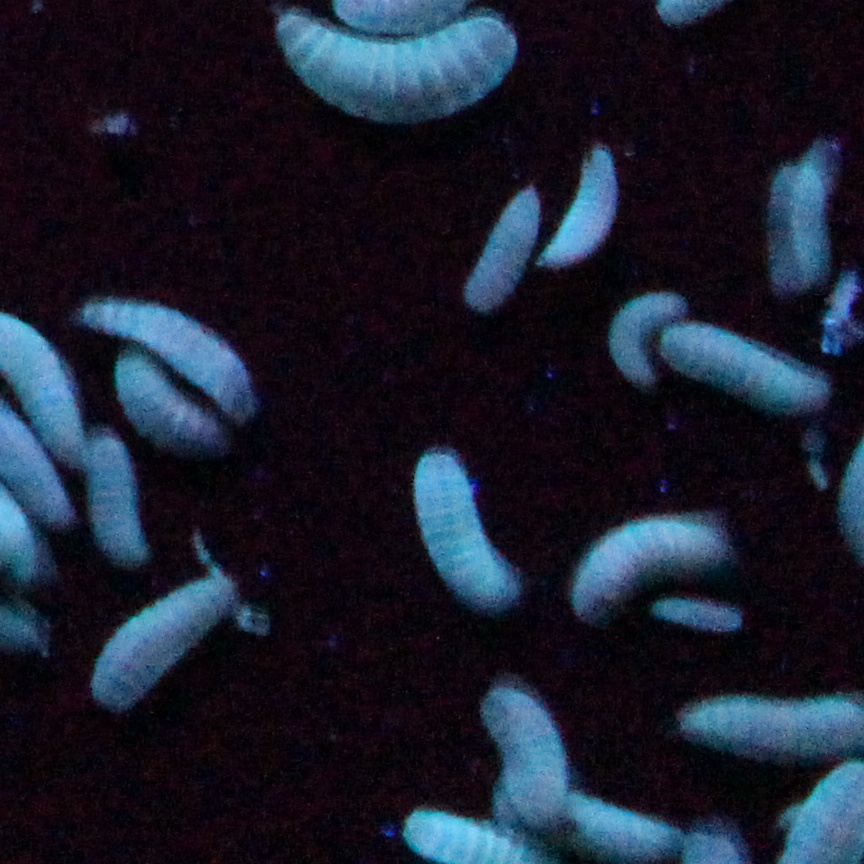larve: (246, 16, 514, 132), (90, 304, 262, 408), (670, 324, 826, 436), (90, 572, 222, 704), (414, 460, 526, 596), (574, 528, 714, 612), (494, 692, 566, 820), (670, 684, 854, 732), (466, 188, 534, 316), (118, 364, 214, 452), (546, 164, 626, 268), (602, 300, 666, 380)
